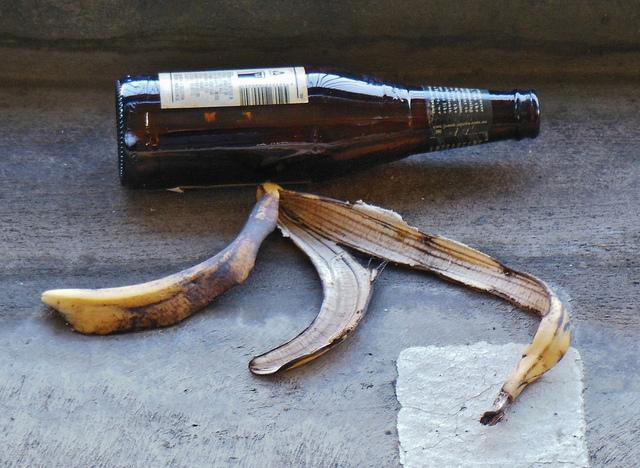banana: (39, 180, 572, 426)
